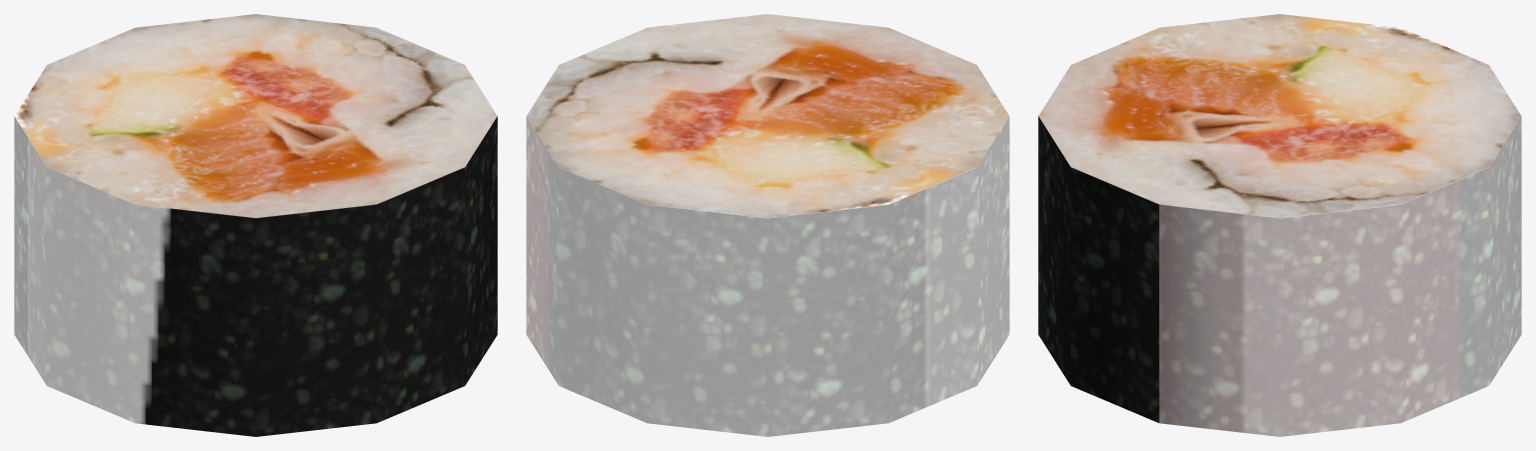
The model's file is SM_Maki_03.fbx.
3 renders of one model, left to right at view 1: azimuth 30°, elevation 25°; view 2: azimuth 150°, elevation 25°; view 3: azimuth 270°, elevation 25°, orthographic.
Visible parts, largest first — view 1: SM_Maki_03_LOD0; view 2: SM_Maki_03_LOD0; view 3: SM_Maki_03_LOD0.
Boxes of the visible parts, box(x1,y1,x2,y2) form: SM_Maki_03_LOD0: box(14, 14, 497, 436); SM_Maki_03_LOD0: box(526, 14, 1009, 436); SM_Maki_03_LOD0: box(1038, 14, 1521, 436).
Bounding box in the file's own units: 5 × 5 × 2.5.
